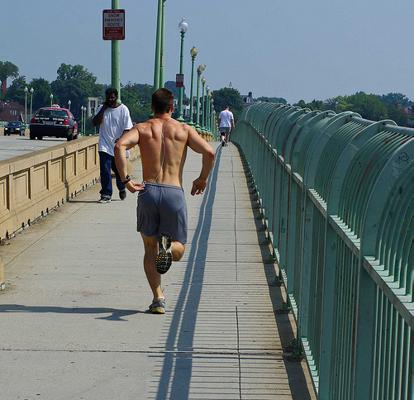person: (114, 88, 219, 316)
